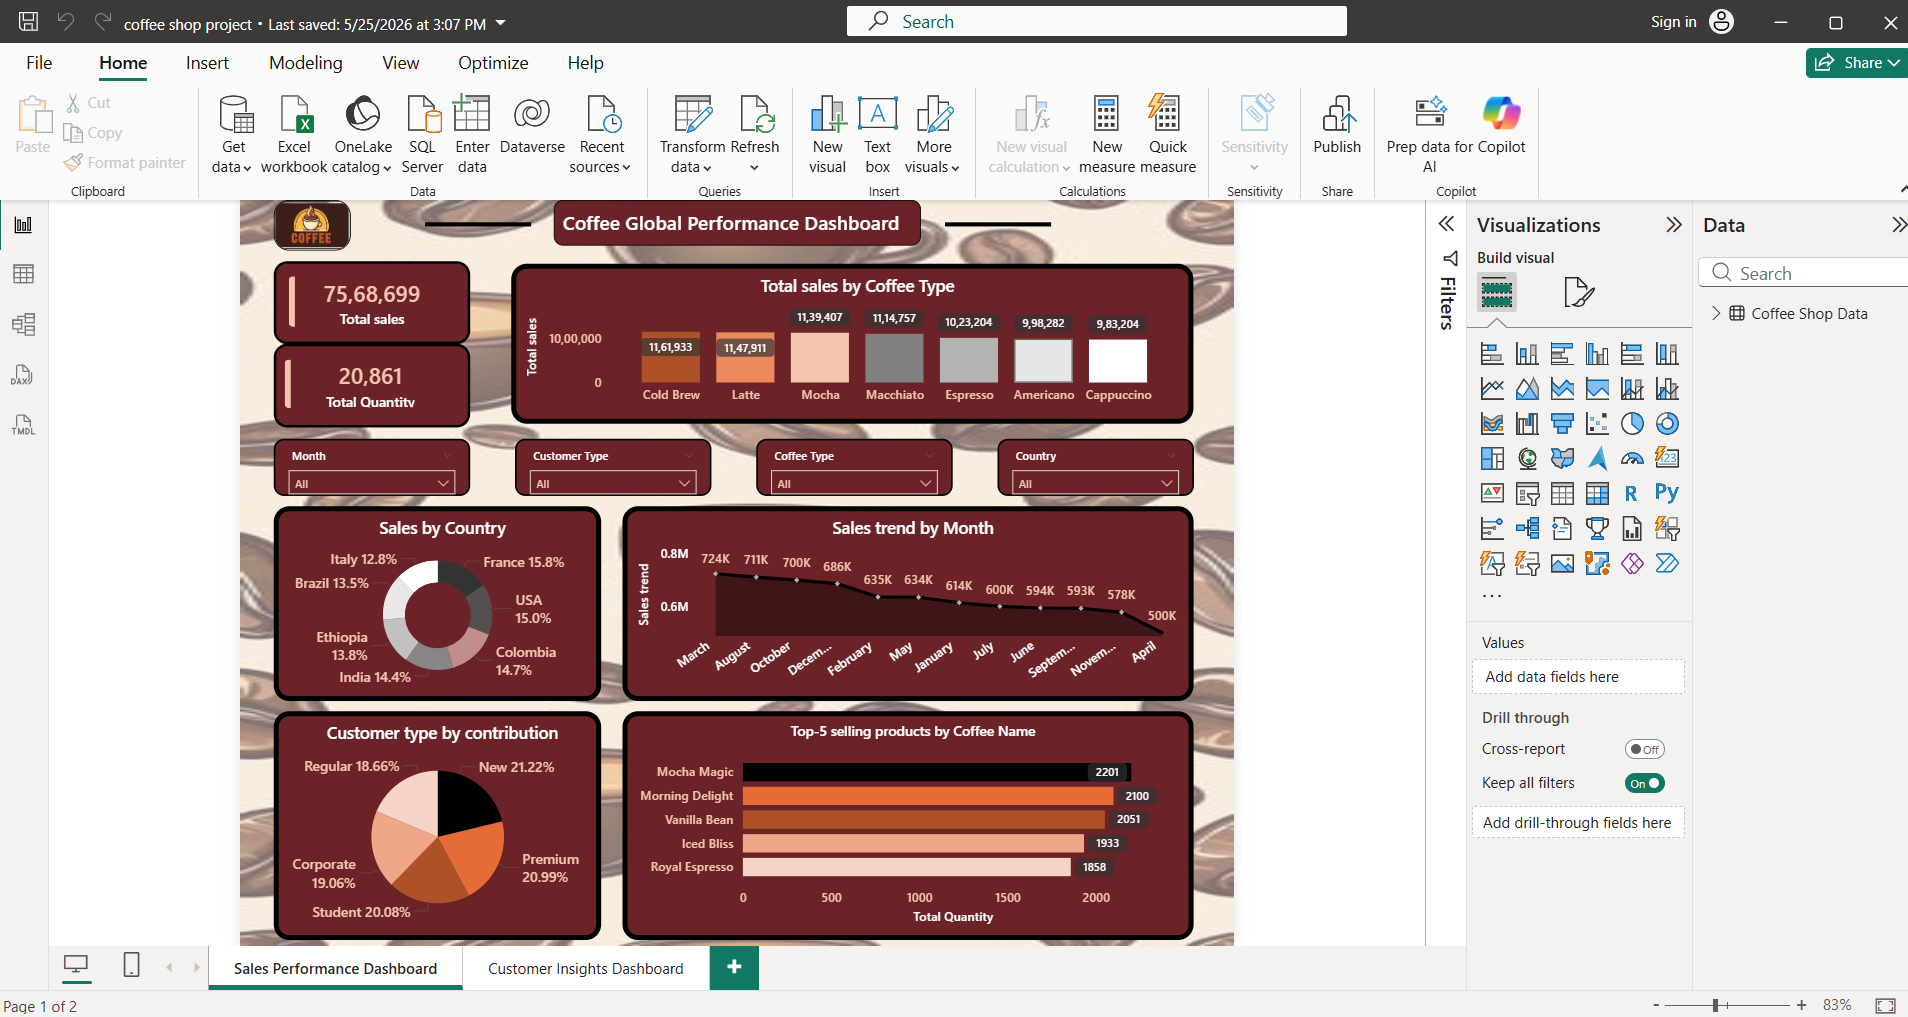

The dashboard page shown, as its layout file describes it:
{"tool":"powerbi","page":{"name":"Sales Performance Dashboard","canvas":[960,720],"ordinal":0},"visuals":[{"type":"textbox","box":[302.7,0,354.6,44],"z":0},{"type":"image","box":[32.1,0,74.4,48.7],"z":1000},{"type":"cardVisual","fields":{"Data":["Coffee Shop Data.total sales"]},"box":[32.6,59.1,189.4,79.6],"z":2000},{"type":"cardVisual","fields":{"Data":["Coffee Shop Data.Total Quantity"]},"box":[32.6,138.7,189.4,80.8],"z":3000},{"type":"columnChart","fields":{"Category":["Coffee Shop Data.Coffee Type"],"Y":["Coffee Shop Data.total sales"]},"box":[261.8,61.5,658.7,154.4],"z":4000},{"type":"donutChart","fields":{"Y":["Coffee Shop Data.total sales"],"Category":["Coffee Shop Data.Country"]},"box":[32.6,295.6,316.1,188.2],"z":5000},{"type":"lineChart","fields":{"Category":["Coffee Shop Data.Month"],"Y":["Coffee Shop Data.total sales"]},"box":[369.2,295.6,551.3,188.2],"z":6000},{"type":"pieChart","fields":{"Category":["Coffee Shop Data.Customer Type"],"Y":["Coffee Shop Data.total sales"]},"box":[32.6,493.4,316.1,220.8],"z":7000},{"type":"barChart","fields":{"Y":["Coffee Shop Data.Total Quantity"],"Category":["Coffee Shop Data.Coffee Name"]},"box":[369.2,493.4,551.3,220.8],"z":8000},{"type":"slicer","fields":{"Values":["Coffee Shop Data.Month"]},"box":[32.6,230.4,189.4,55.5],"z":8001},{"type":"slicer","fields":{"Values":["Coffee Shop Data.Customer Type"]},"box":[265.4,230.4,189.4,55.5],"z":8002},{"type":"slicer","fields":{"Values":["Coffee Shop Data.Coffee Type"]},"box":[498.3,230.4,189.4,55.5],"z":8003},{"type":"slicer","fields":{"Values":["Coffee Shop Data.Country"]},"box":[731.1,230.4,189.4,55.5],"z":8004},{"type":"shape","box":[178.6,14.5,102.5,18.1],"z":8005},{"type":"shape","box":[680.4,14.5,102.5,18.1],"z":8006}]}

Visuals, with their boxes on the page's 960x720 design canvas (x1, y1, x2, y2). These are canvas units, not pixel positions in the 1908x1017 screenshot, which may show the page scaled, cropped or inside an application window:
textbox: pyautogui.locateOnScreen(303, 0, 657, 44)
image: pyautogui.locateOnScreen(32, 0, 106, 49)
cardVisual - Coffee Shop Data.total sales: pyautogui.locateOnScreen(33, 59, 222, 139)
cardVisual - Coffee Shop Data.Total Quantity: pyautogui.locateOnScreen(33, 139, 222, 220)
columnChart - Coffee Shop Data.Coffee Type x Coffee Shop Data.total sales: pyautogui.locateOnScreen(262, 62, 920, 216)
donutChart - Coffee Shop Data.total sales x Coffee Shop Data.Country: pyautogui.locateOnScreen(33, 296, 349, 484)
lineChart - Coffee Shop Data.Month x Coffee Shop Data.total sales: pyautogui.locateOnScreen(369, 296, 920, 484)
pieChart - Coffee Shop Data.Customer Type x Coffee Shop Data.total sales: pyautogui.locateOnScreen(33, 493, 349, 714)
barChart - Coffee Shop Data.Total Quantity x Coffee Shop Data.Coffee Name: pyautogui.locateOnScreen(369, 493, 920, 714)
slicer - Coffee Shop Data.Month: pyautogui.locateOnScreen(33, 230, 222, 286)
slicer - Coffee Shop Data.Customer Type: pyautogui.locateOnScreen(265, 230, 455, 286)
slicer - Coffee Shop Data.Coffee Type: pyautogui.locateOnScreen(498, 230, 688, 286)
slicer - Coffee Shop Data.Country: pyautogui.locateOnScreen(731, 230, 920, 286)
shape: pyautogui.locateOnScreen(179, 14, 281, 33)
shape: pyautogui.locateOnScreen(680, 14, 783, 33)
